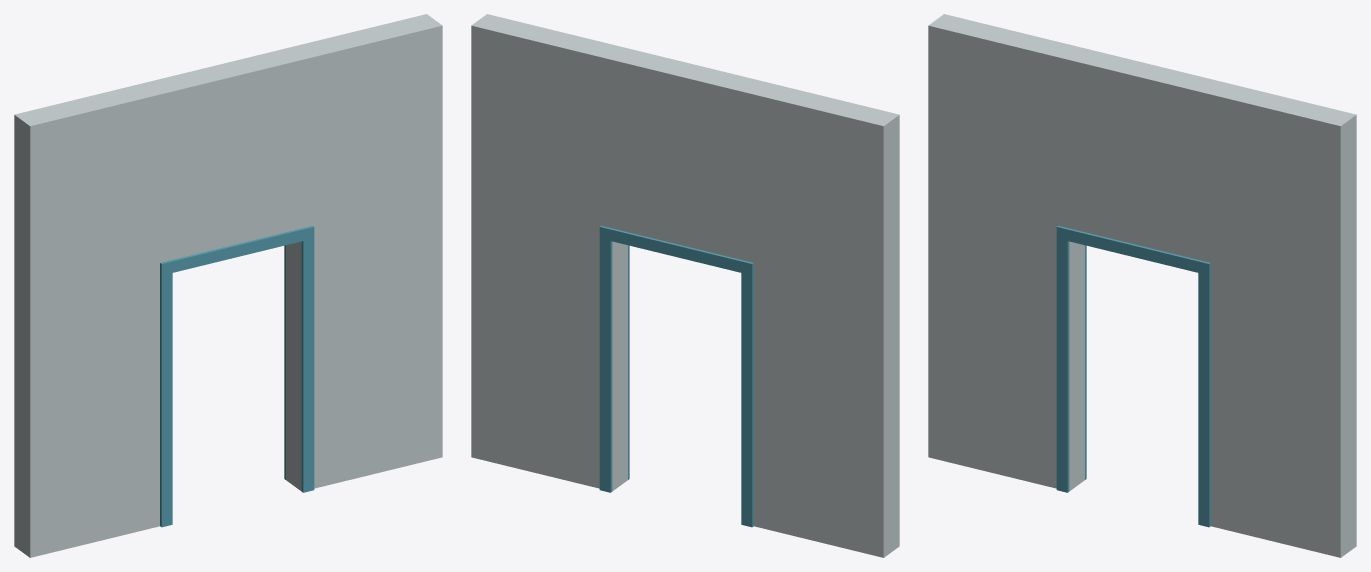
Rendered from low_portal.glb.
The picture shows the model from 3 angles, left to right: view 1: azimuth 30°, elevation 25°; view 2: azimuth 150°, elevation 25°; view 3: azimuth 330°, elevation 25°; orthographic projection.
Parts seen in each view (by area): view 1: LowPortal; view 2: LowPortal; view 3: LowPortal.
Boxes of the visible parts, left/top/right/bottom form: LowPortal: left=14, top=14, right=442, bottom=557; LowPortal: left=471, top=14, right=899, bottom=557; LowPortal: left=928, top=14, right=1356, bottom=557.
Bounding box in the file's own units: 3 × 3 × 0.24.
